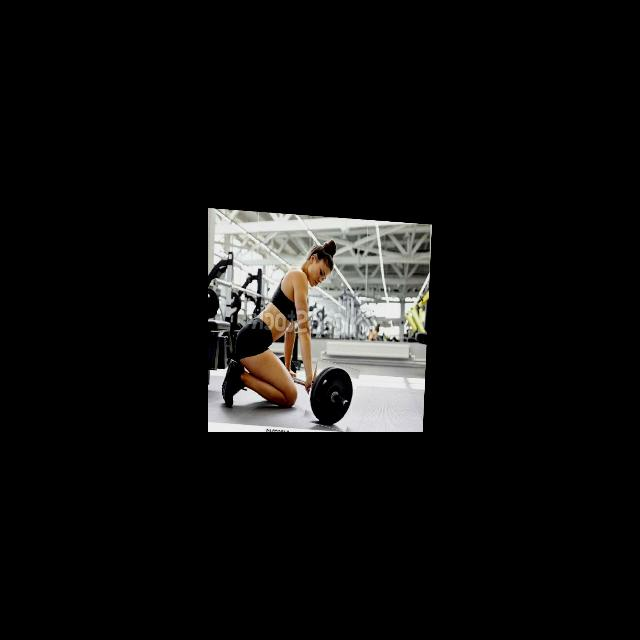barbell: (307, 358, 359, 428)
